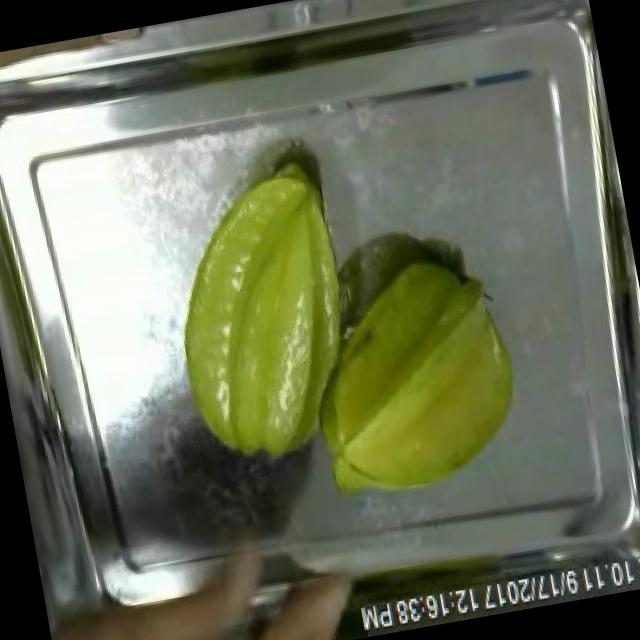fruit: (145, 157, 386, 486), (281, 230, 547, 518)
